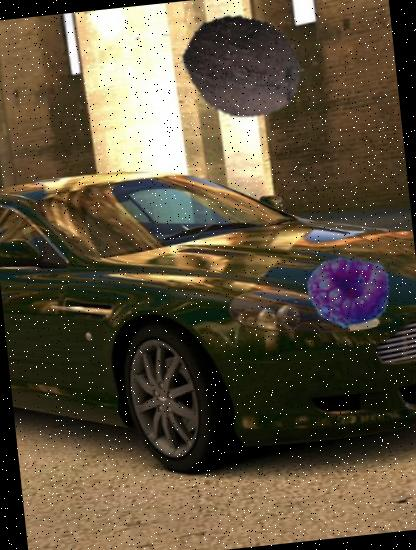Cocos: (174, 0, 309, 133)
Raspberry: (302, 244, 396, 338)
